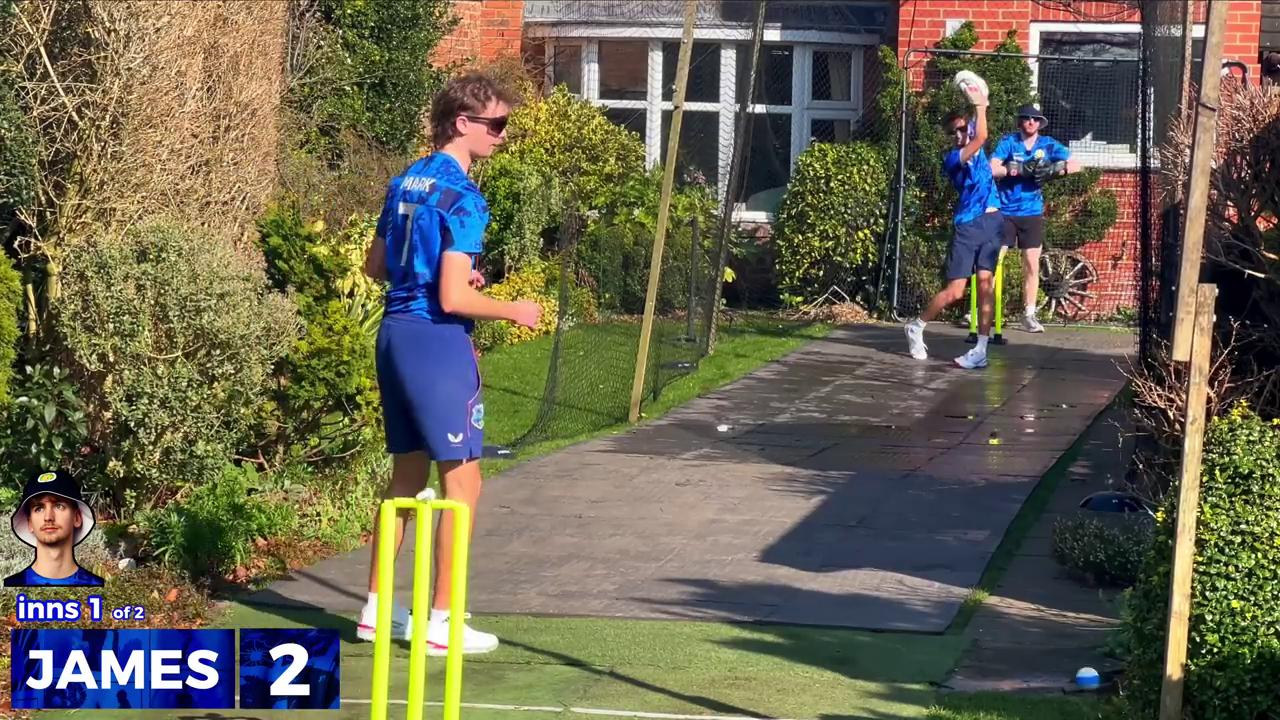ball: (1061, 650, 1107, 696)
